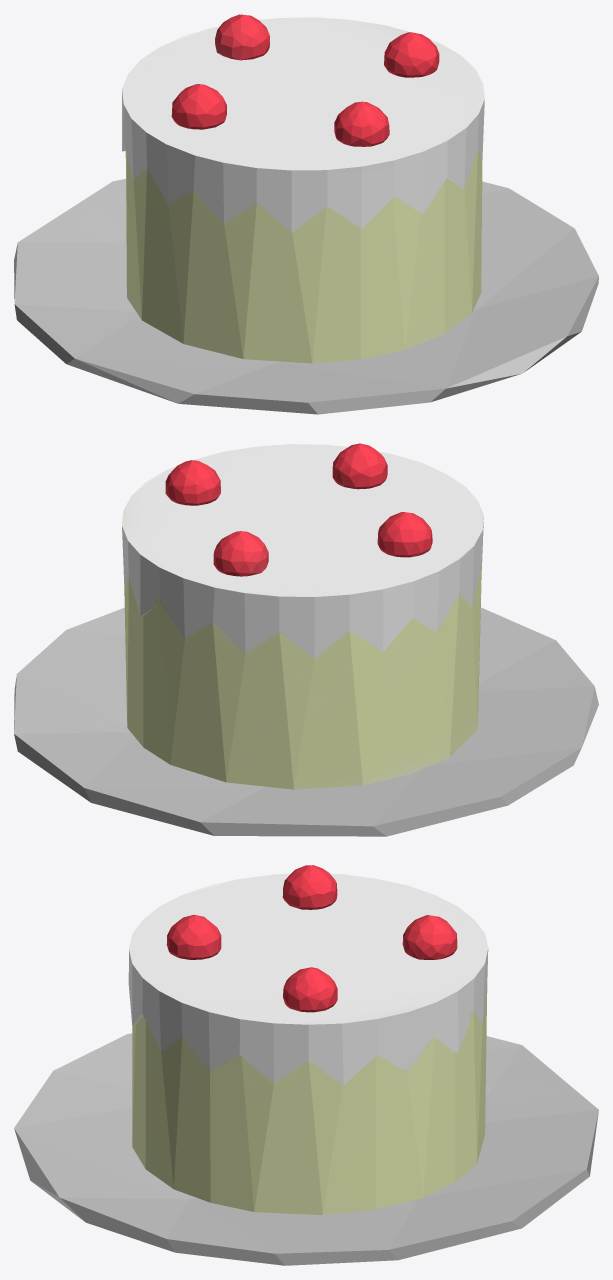
Rendered from Cake.fbx.
3 renders of one model, top to bottom at view 1: azimuth 30°, elevation 25°; view 2: azimuth 150°, elevation 25°; view 3: azimuth 270°, elevation 25°, orthographic.
Visible parts, largest first — view 1: Cylinder; view 2: Cylinder; view 3: Cylinder.
Boxes of the visible parts, x1,y1,x2,y2 form: Cylinder: [14, 14, 598, 414]; Cylinder: [14, 443, 598, 836]; Cylinder: [14, 865, 598, 1265].
Size of the model in its own units: 420 by 206 by 423.
